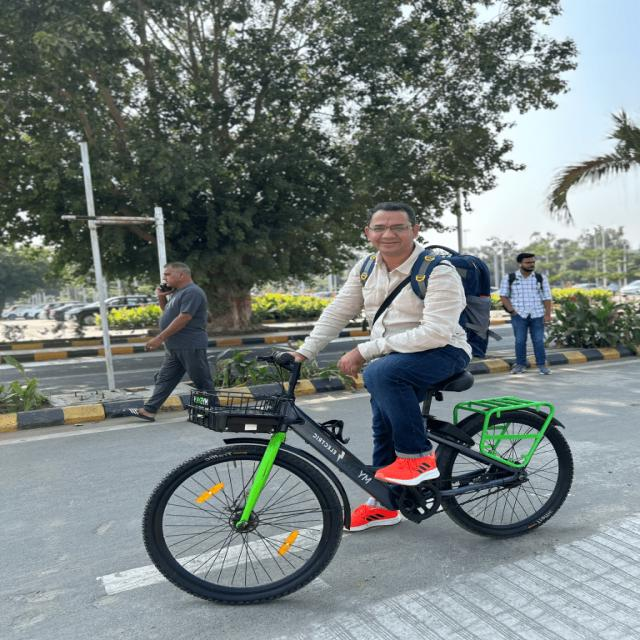bicycle: (143, 202, 573, 603)
